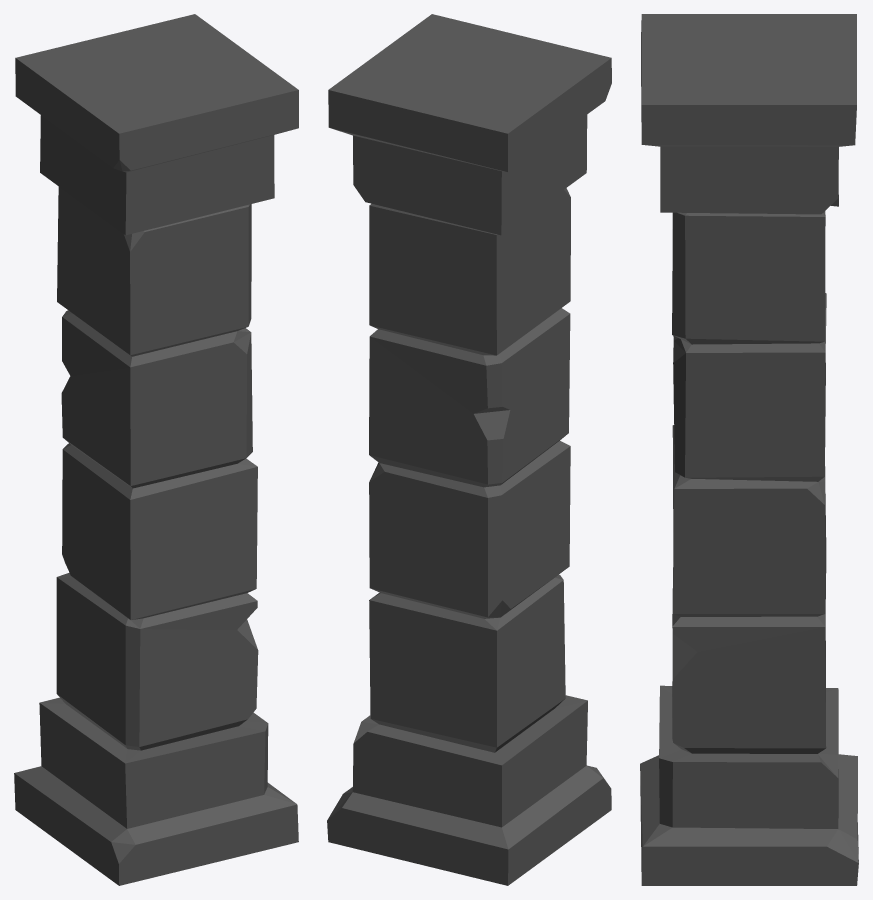
File: Pillar_D0.fbx
3 views of the same model, side by side, from view 1: azimuth 30°, elevation 25°; view 2: azimuth 150°, elevation 25°; view 3: azimuth 270°, elevation 25° (orthographic). The views are drawn at different scales.
Parts seen in each view (by area): view 1: Pillar D0; view 2: Pillar D0; view 3: Pillar D0.
Part boxes in pixels (<box>): Pillar D0: <box>14,14,298,885</box>; Pillar D0: <box>327,14,611,885</box>; Pillar D0: <box>640,14,858,885</box>.
Size of the model in its own units: 101 by 400 by 102.
